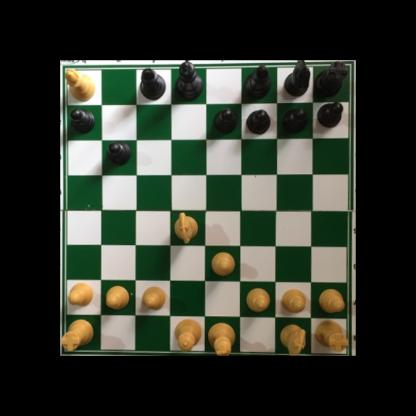black-bishop: (139, 62, 167, 99), (242, 62, 270, 99)
black-king: (173, 61, 201, 101)
black-knight: (284, 61, 311, 98)
black-pawn: (67, 107, 96, 135), (280, 107, 307, 135), (317, 101, 343, 127), (212, 108, 236, 134), (246, 109, 270, 135), (106, 142, 132, 165)
black-rook: (311, 61, 349, 99)
white-bishop: (63, 67, 97, 102)
white-king: (206, 320, 236, 356)
white-knight: (172, 210, 199, 246), (279, 323, 307, 356)
white-pawn: (316, 288, 344, 315), (139, 285, 168, 311), (209, 252, 238, 277), (280, 288, 306, 315), (67, 280, 94, 305), (104, 284, 129, 311), (245, 288, 270, 312)
white-queen: (172, 317, 202, 351)
white-rook: (311, 317, 349, 351), (61, 318, 95, 351)
